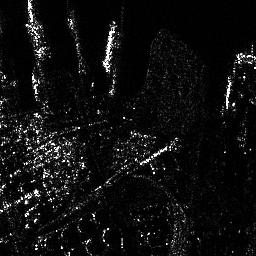ship: (25, 1, 54, 59), (102, 20, 118, 74)
